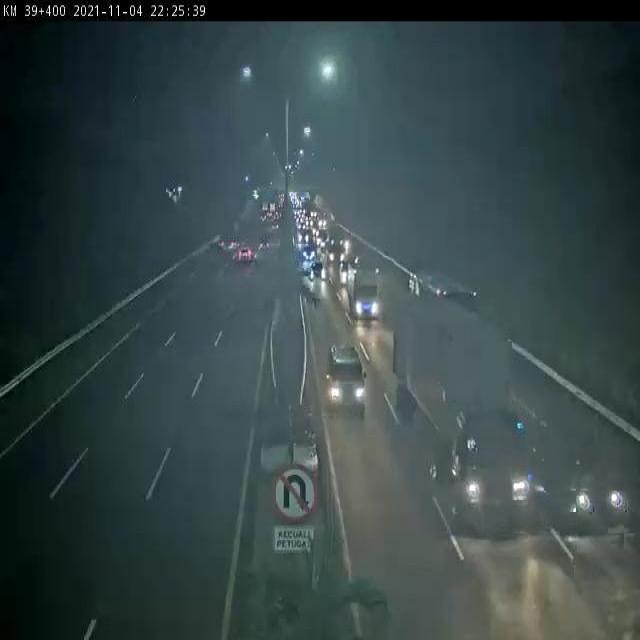car: (538, 416, 629, 535), (325, 344, 371, 420), (234, 243, 254, 269), (309, 261, 327, 280)
truck-m-: (346, 260, 383, 324)
truck-xl-: (393, 291, 536, 537)
